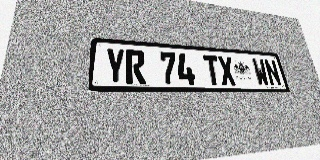4: (176, 53, 196, 85)
7: (159, 52, 179, 85)
N: (264, 59, 282, 86)
R: (126, 49, 146, 84)
T: (202, 55, 222, 85)
W: (251, 58, 270, 86)
X: (217, 56, 237, 85)
Y: (104, 48, 126, 84)
